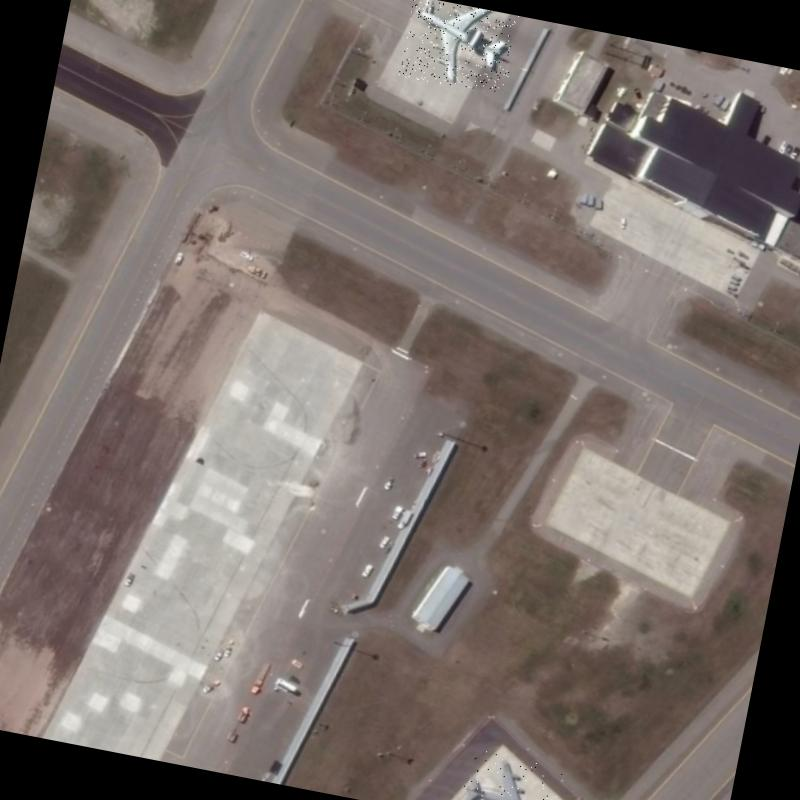A14: (457, 748, 564, 800)
A7: (397, 0, 519, 96)
